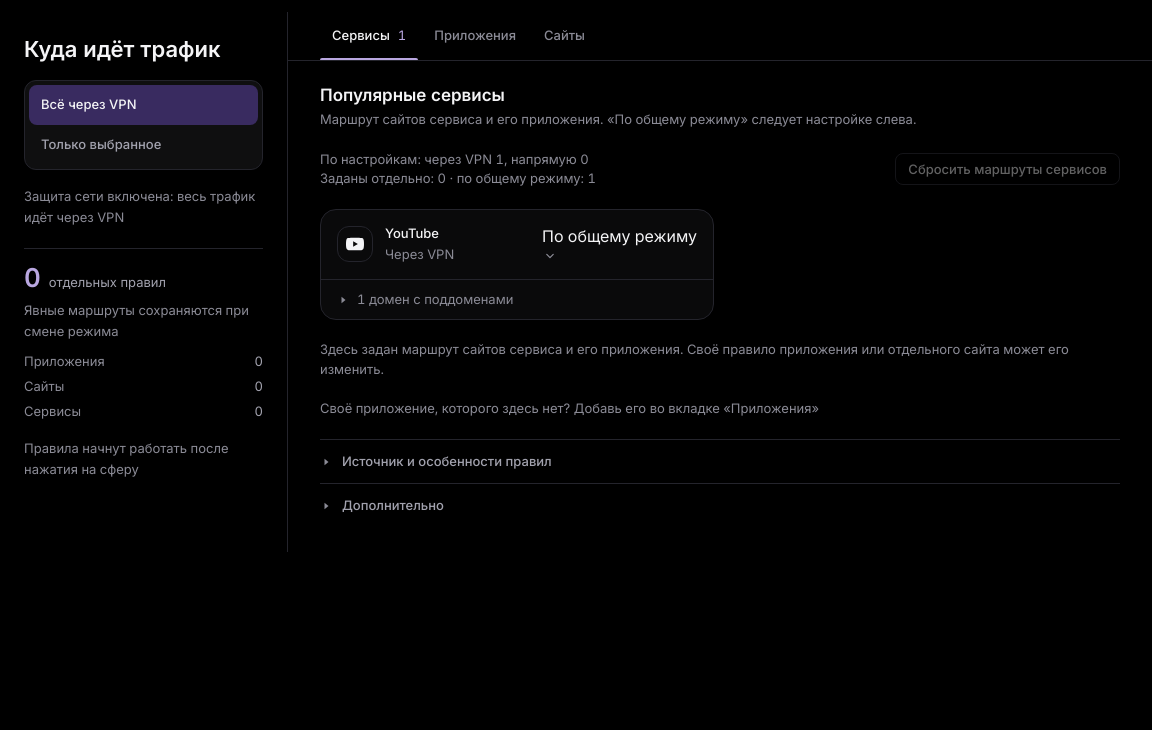
Test: новая форма при защите предлагает исключение и добавляет его
Click the tab "Сайты". click: (564, 36)
box: top-left (532, 12), bottom-right (597, 60)
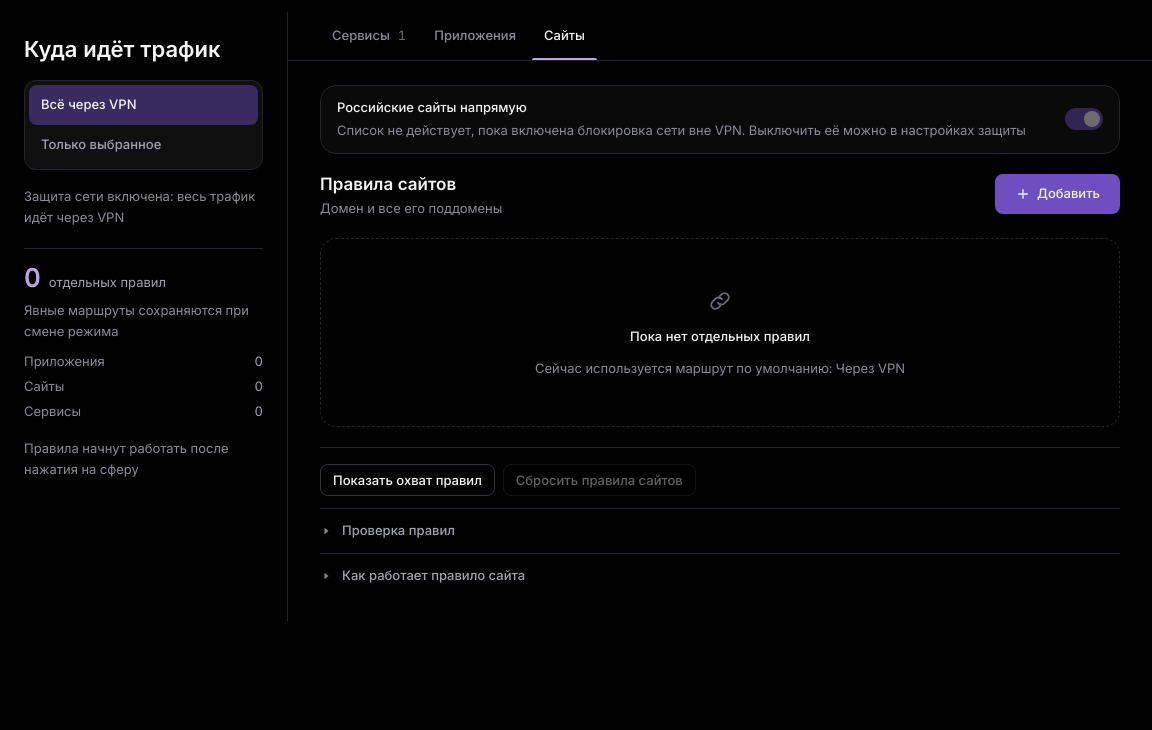
Click the button "Добавить". click: (1058, 194)
box: top-left (995, 174), bottom-right (1120, 214)
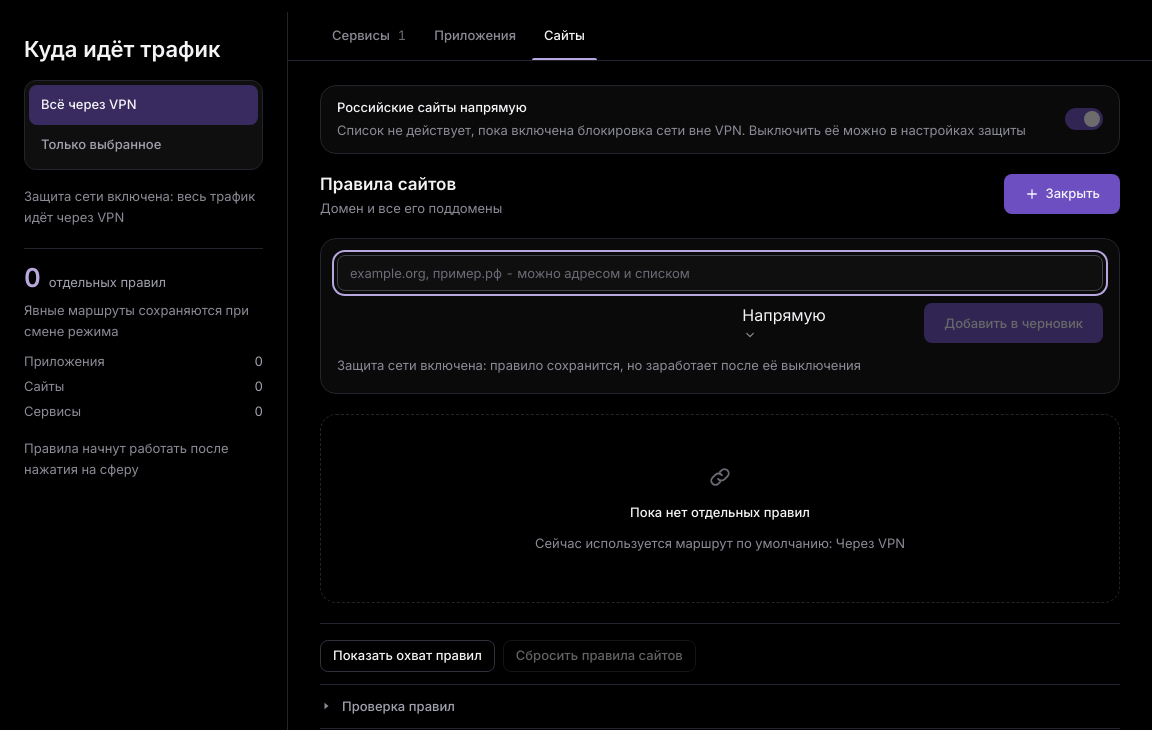
Type "example.org" into the field named "Домен сайта". click: (720, 273)
box: top-left (337, 255), bottom-right (1103, 291)
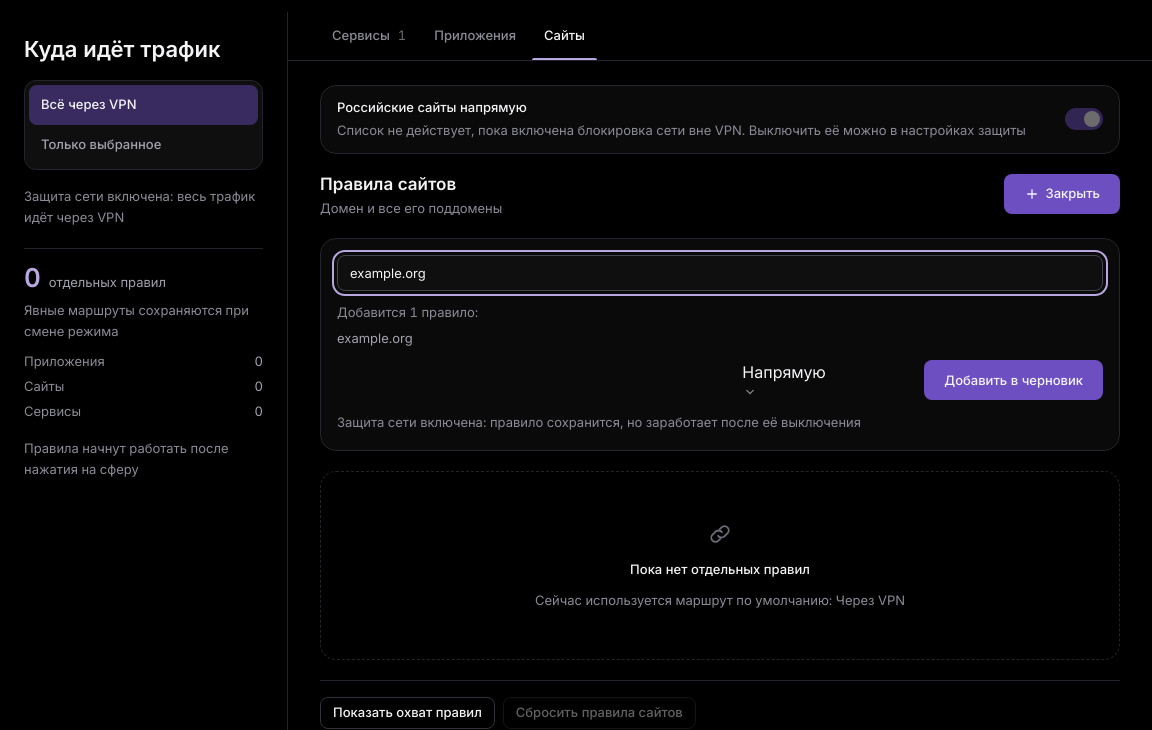
expect the dropdown named "Маршрут нового правила" reads "Напрямую": met, box top-left (742, 360), bottom-right (826, 400)
expect the text "заработает после её выключения" is shown: met, box top-left (337, 414), bottom-right (861, 430)
expect the button "Добавить в черновик" is enabled: met
Click the button "Добавить в черновик". click: (1014, 380)
box: top-left (924, 360), bottom-right (1103, 400)
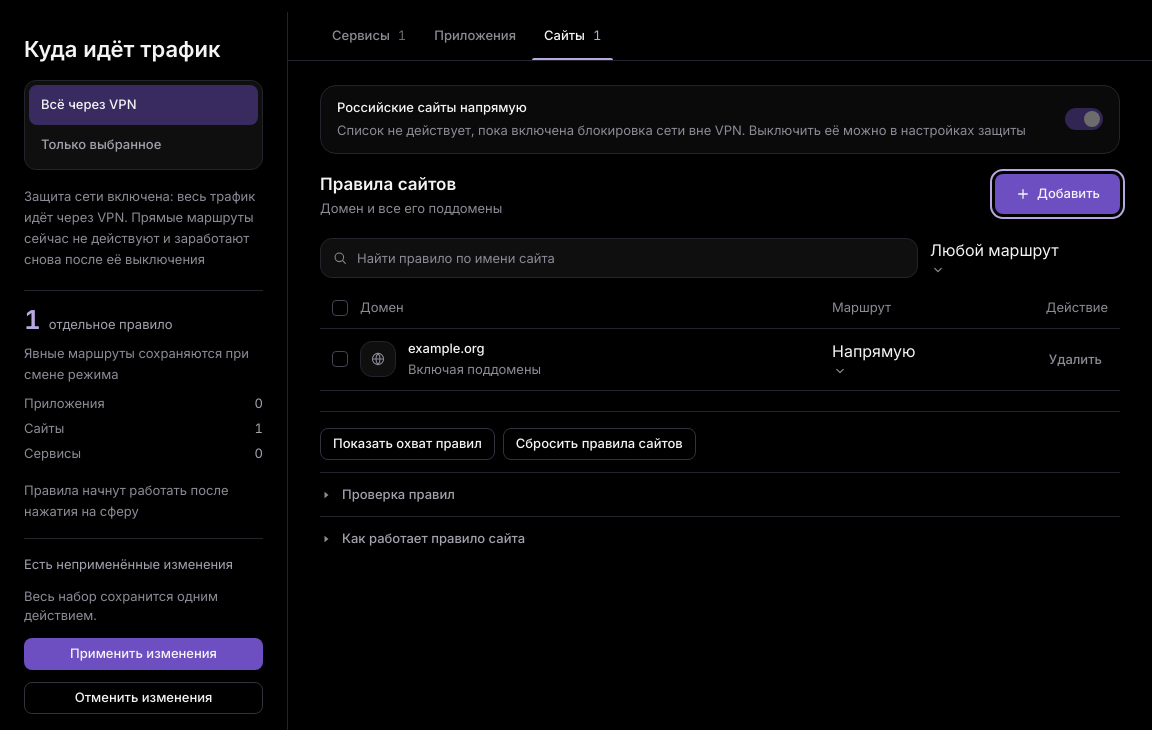
expect the button "Применить изменения" is enabled: met, box top-left (24, 638), bottom-right (263, 670)
